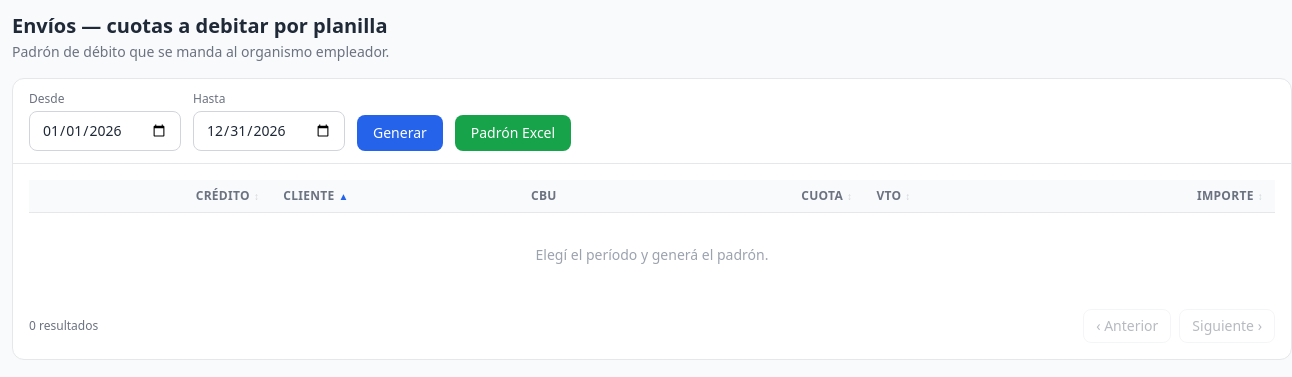
it: Envíos — padrón de débito › un período sin cuotas muestra el vacío
Click the button "Generar" at coordinates (400, 133), box [357,115,443,151]
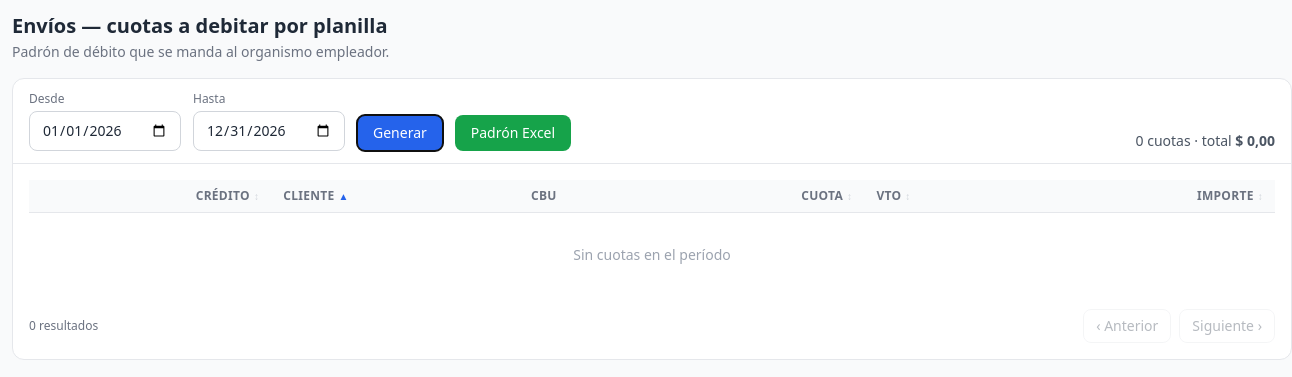
Now the text "Sin cuotas en el período" is shown, box [29,212,1275,297]
